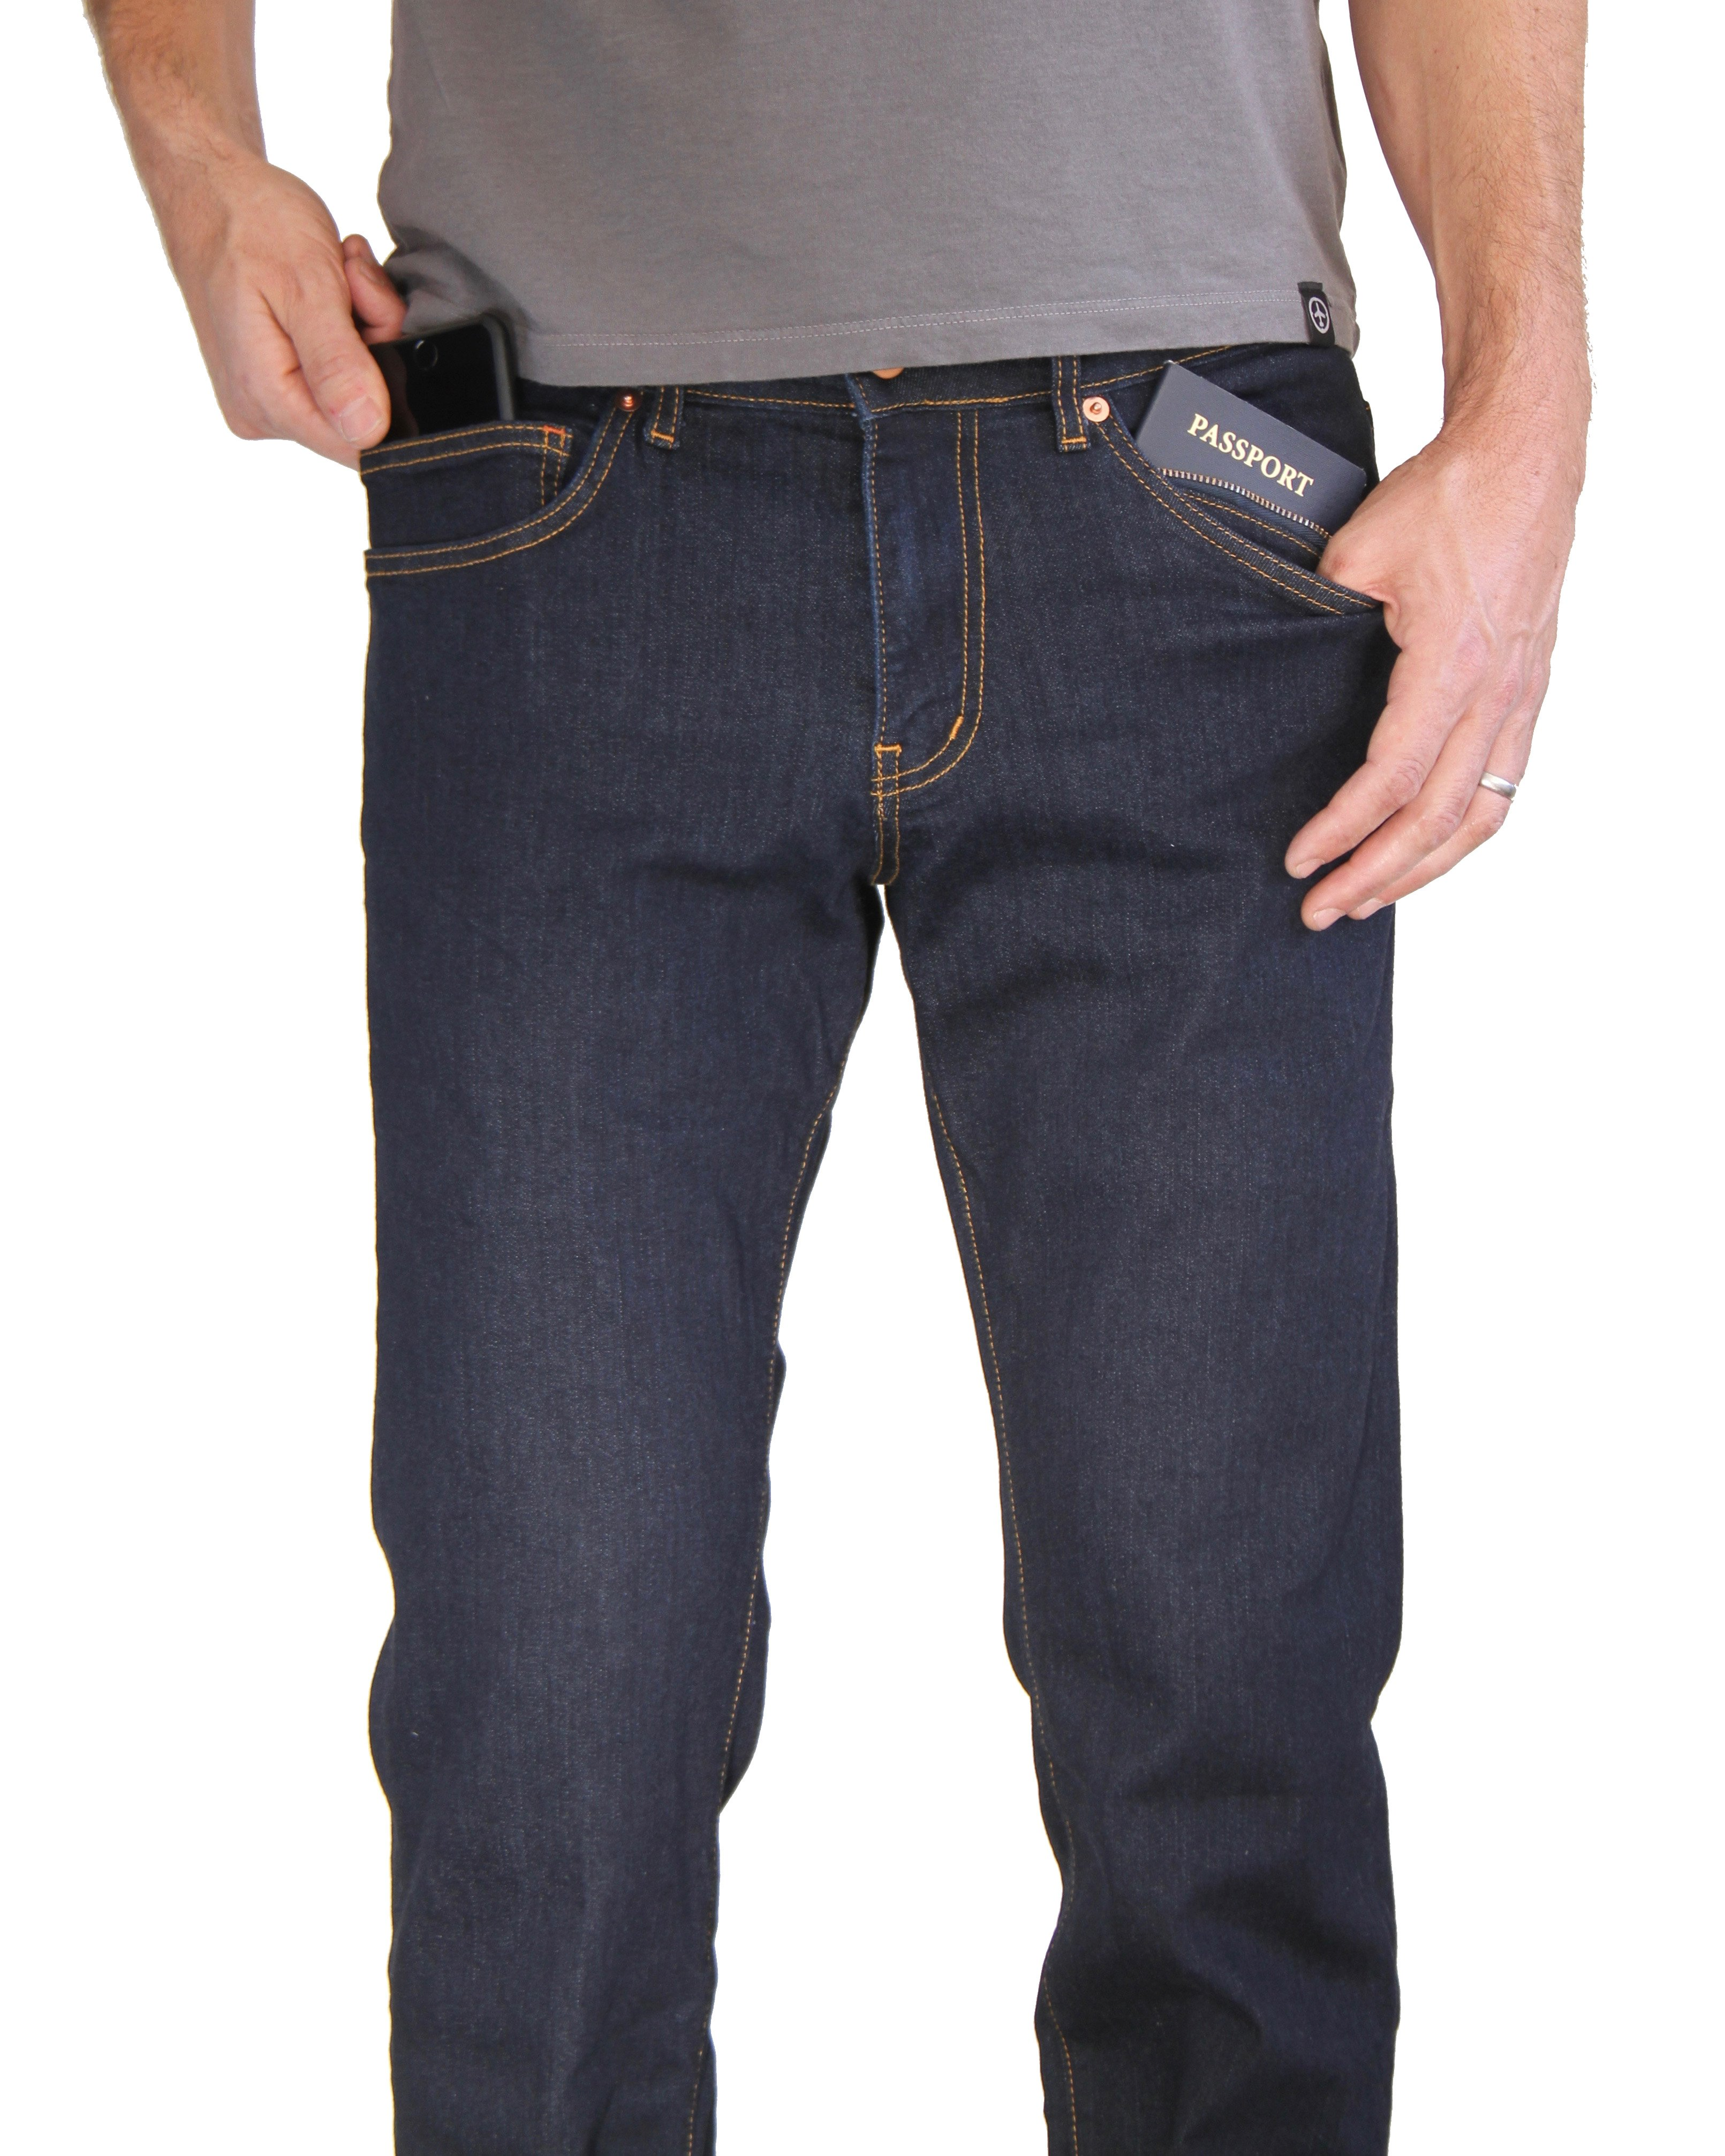jeans: (368, 347, 1392, 2156)
